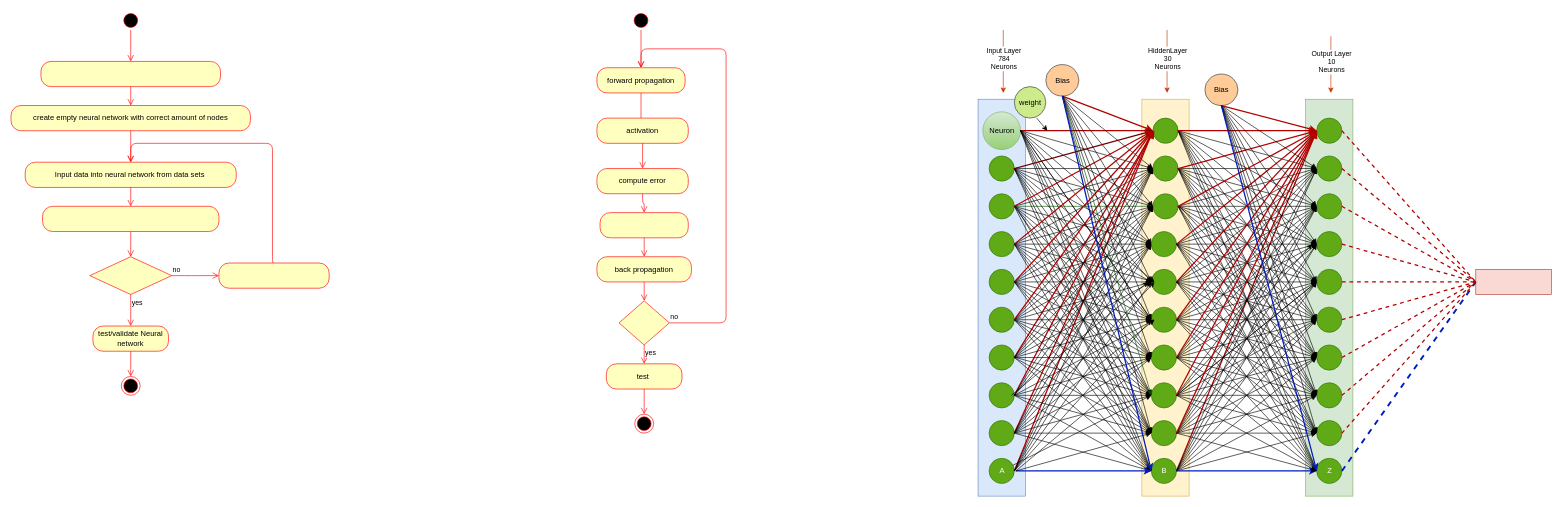
The diagram is 1562 pixels wide and 507 high, and some of its shapes have lost their labels. Each missing label, with the centre of its shape:
"compute gradient" belongs at point 643,225.
"create data sets in a vector from file" belongs at point 130,74.
"finished training" belongs at point 130,275.
"finished training?" belongs at point 643,322.
"Total error" belongs at point 1513,282.
"train a set(forward propagation)" belongs at point 130,219.
"Update weights (back propagation)" belongs at point 273,275.
